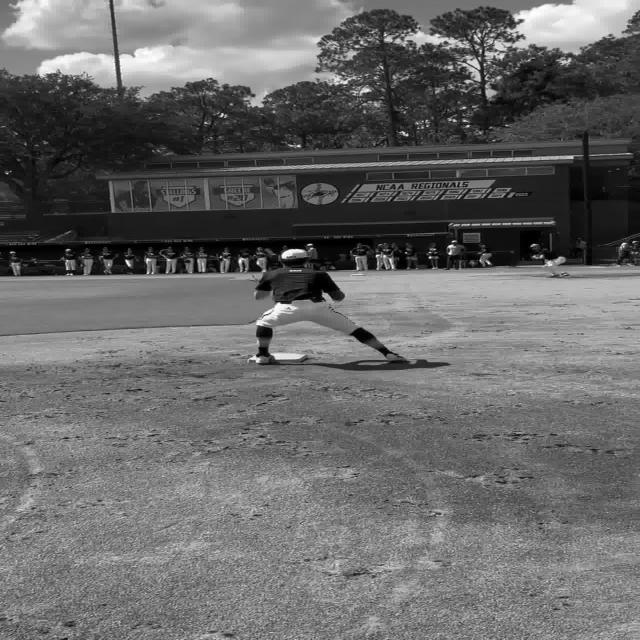base: (249, 352, 309, 364)
shoe: (385, 352, 413, 364), (251, 355, 278, 365)
